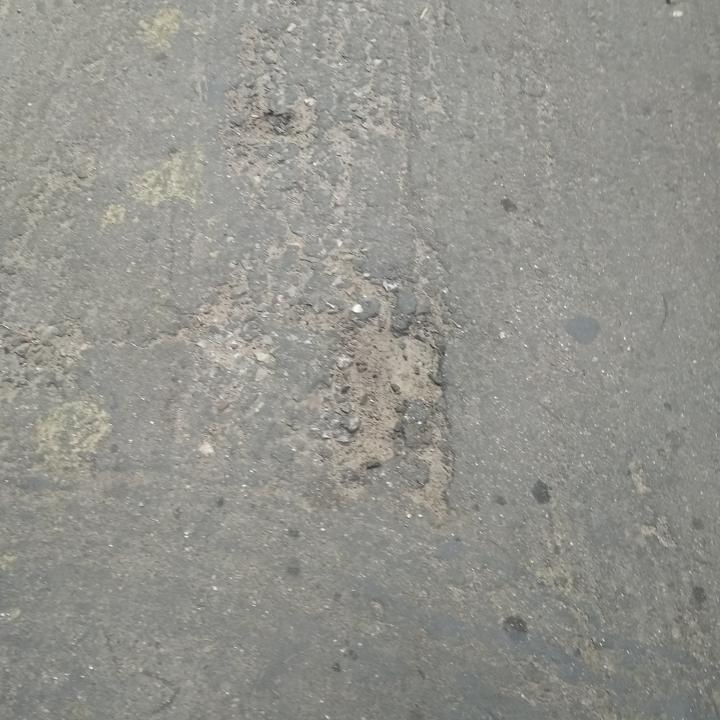pothole: (304, 309, 459, 505), (234, 107, 296, 143)
